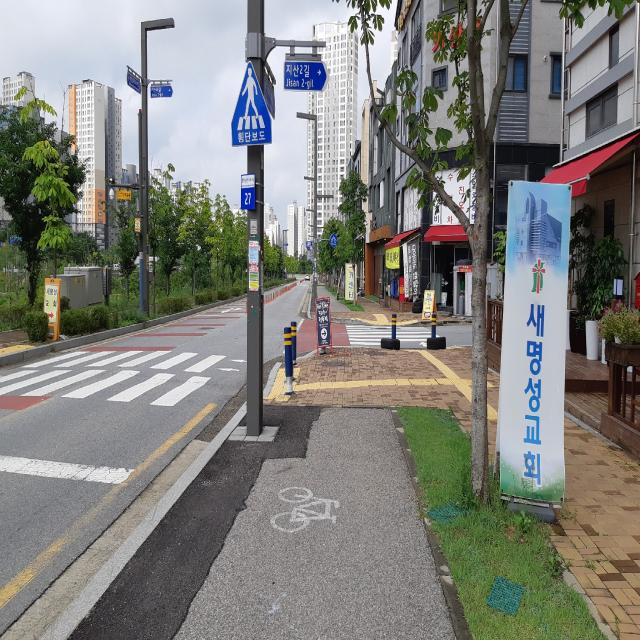횡단보도: (0, 335, 234, 412), (344, 324, 440, 349)
